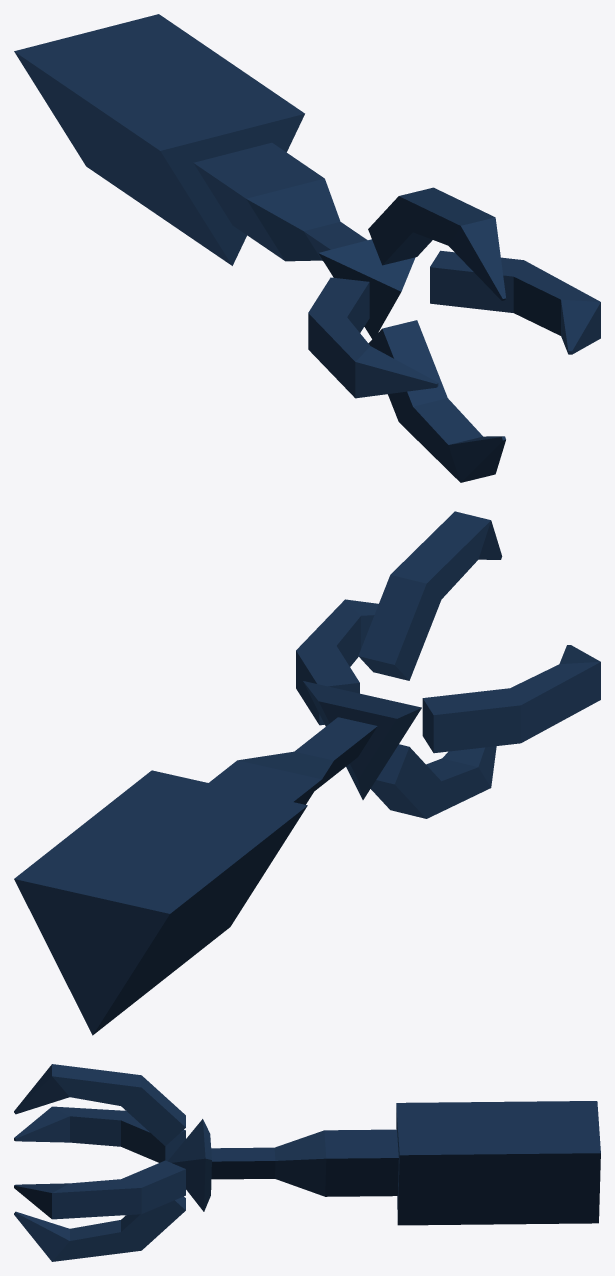
File: Water_Tower.fbx
3 views of the same model, one above another, from view 1: azimuth 30°, elevation 25°; view 2: azimuth 150°, elevation 25°; view 3: azimuth 270°, elevation 25° (orthographic). The views are drawn at different scales.
Parts seen in each view (by area): view 1: Ice Tower; view 2: Ice Tower; view 3: Ice Tower.
Boxes of the visible parts, x1=… form: Ice Tower: x1=14, y1=14, x2=600, y2=482; Ice Tower: x1=14, y1=511, x2=600, y2=1035; Ice Tower: x1=14, y1=1064, x2=600, y2=1261.
Size of the model in its own units: 321 by 321 by 920.
